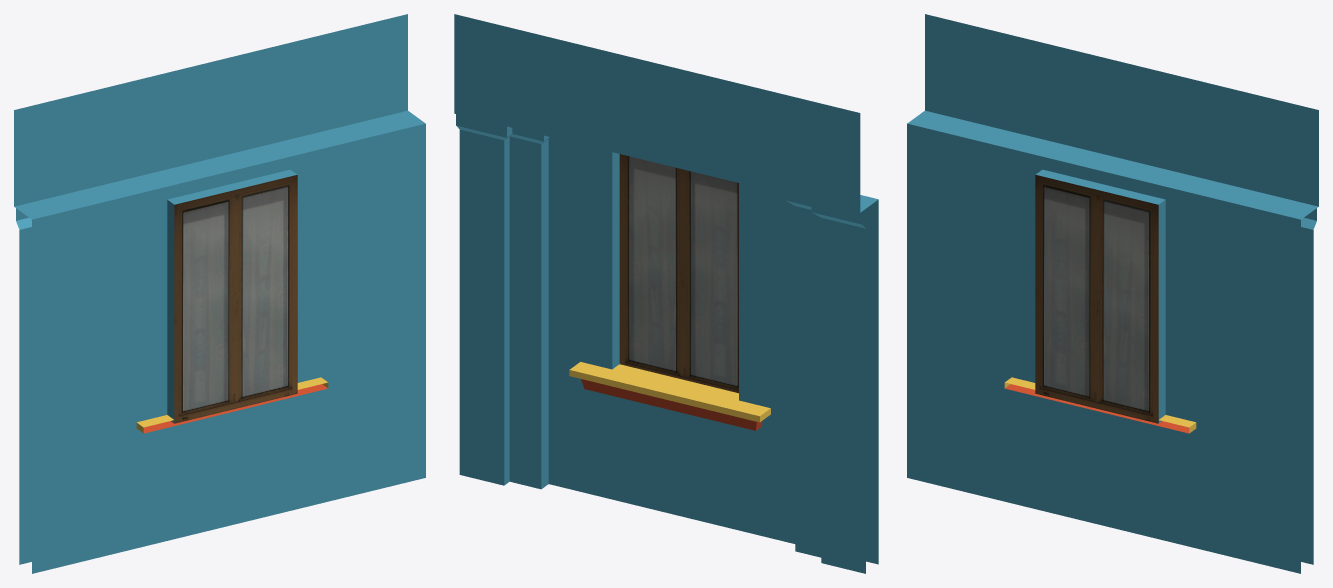
The model's file is FacadeLastFloorTopA.FBX.
The picture shows the model from 3 angles, left to right: view 1: azimuth 30°, elevation 25°; view 2: azimuth 150°, elevation 25°; view 3: azimuth 330°, elevation 25°; orthographic projection. The views are drawn at different scales.
Visible parts, largest first — view 1: FacadeLastFloorTopA_Wall, FacadeLastFloorTopA_Window; view 2: FacadeLastFloorTopA_Wall, FacadeLastFloorTopA_Window; view 3: FacadeLastFloorTopA_Wall, FacadeLastFloorTopA_Window.
Boxes of the visible parts, left/top/right/bottom form: FacadeLastFloorTopA_Wall: left=14, top=14, right=425, bottom=573; FacadeLastFloorTopA_Window: left=174, top=175, right=297, bottom=423; FacadeLastFloorTopA_Wall: left=454, top=14, right=878, bottom=573; FacadeLastFloorTopA_Window: left=619, top=154, right=738, bottom=393; FacadeLastFloorTopA_Wall: left=907, top=14, right=1318, bottom=573; FacadeLastFloorTopA_Window: left=1035, top=175, right=1158, bottom=423.
Bounding box in the file's own units: 320 × 350 × 35.
